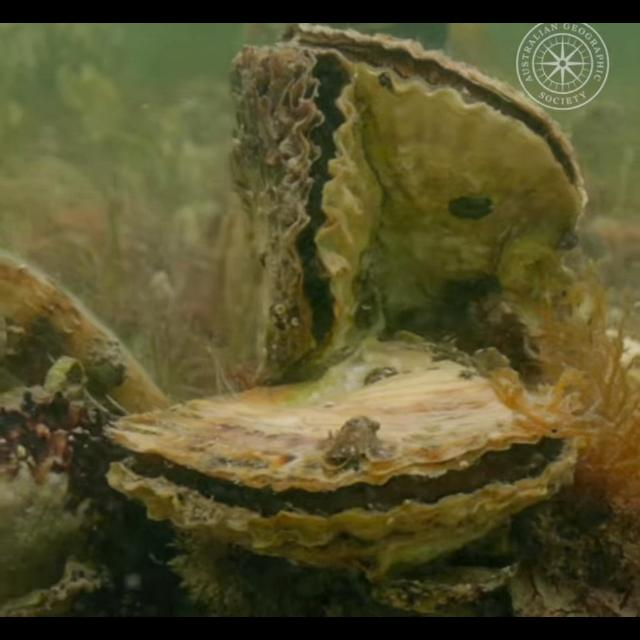Oyster-Closed: (0, 249, 172, 435)
Oyster-Open: (100, 333, 574, 583), (280, 24, 586, 352), (228, 42, 382, 388)
